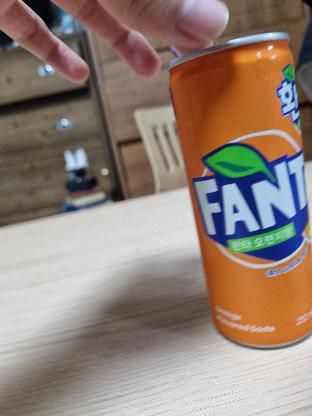Can: (172, 58, 310, 342)
